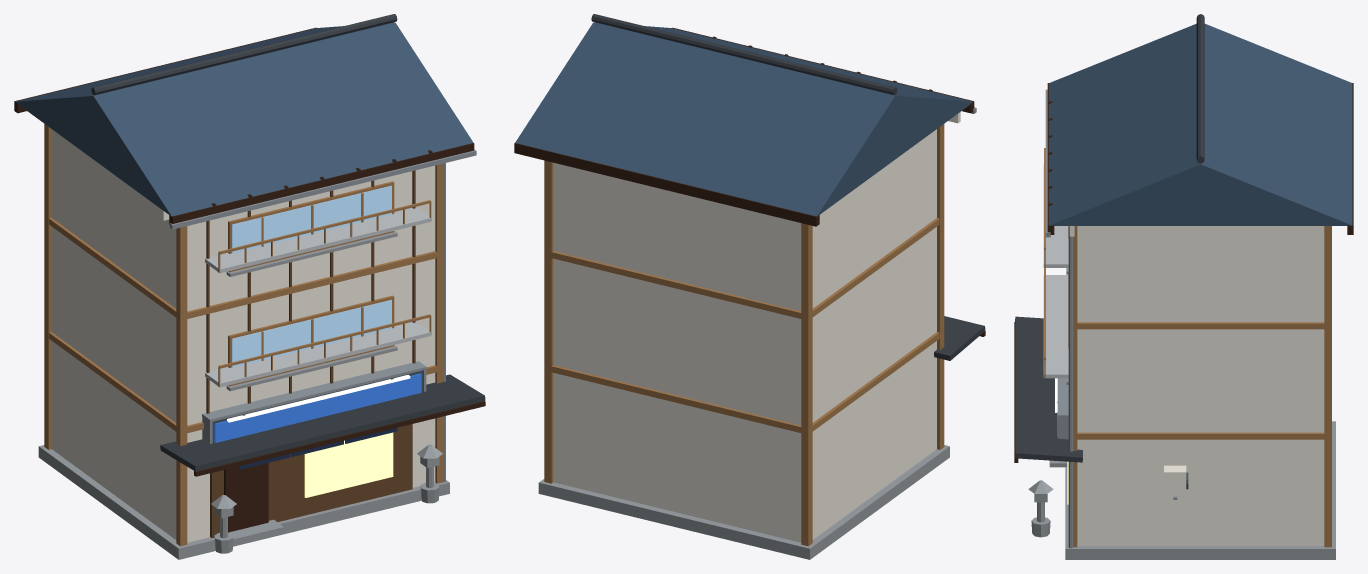
Rendered from shop_sushi_3f.glb.
The picture shows the model from 3 angles, left to right: view 1: azimuth 30°, elevation 25°; view 2: azimuth 150°, elevation 25°; view 3: azimuth 270°, elevation 25°; orthographic projection. The views are drawn at different scales.
Parts seen in each view (by area): view 1: body.023, roof.011, eave.011, panel.002, base.023, win_glass.043, win_glass.041, panel_glass.002, sign_face.023, balcony_slab.034, balcony_slab.035, post.092 (+21 smaller); view 2: body.023, roof.011, base.023, post.093, eave_back.011, beam.069, beam.068, post.095, ridge.011, post.092, eave.011; view 3: body.023, roof.011, eave.011, base.023, post.095, balcony_slab.034, beam.068, beam.069, downpipe.010, post.094, ridge.011, balcony_slab.035 (+3 smaller).
Part boxes in pixels (x1=…): body.023: x1=51, y1=129, x2=435, y2=542; roof.011: x1=15, y1=22, x2=473, y2=216; eave.011: x1=160, y1=374, x2=485, y2=471; panel.002: x1=210, y1=424, x2=412, y2=537; base.023: x1=38, y1=445, x2=449, y2=559; win_glass.043: x1=232, y1=185, x2=391, y2=253; win_glass.041: x1=232, y1=299, x2=391, y2=367; panel_glass.002: x1=304, y1=432, x2=393, y2=497; sign_face.023: x1=214, y1=373, x2=421, y2=442; balcony_slab.034: x1=205, y1=321, x2=430, y2=387; balcony_slab.035: x1=205, y1=207, x2=430, y2=273; post.092: x1=176, y1=226, x2=187, y2=546; body.023: x1=553, y1=129, x2=936, y2=542; roof.011: x1=515, y1=22, x2=973, y2=216; base.023: x1=538, y1=445, x2=949, y2=559; post.093: x1=801, y1=223, x2=812, y2=546; eave_back.011: x1=514, y1=143, x2=819, y2=226; beam.069: x1=551, y1=218, x2=939, y2=318; beam.068: x1=551, y1=332, x2=939, y2=432; post.095: x1=544, y1=160, x2=553, y2=483; ridge.011: x1=591, y1=14, x2=897, y2=94; post.092: x1=937, y1=124, x2=944, y2=449; eave.011: x1=934, y1=316, x2=985, y2=360; body.023: x1=1077, y1=226, x2=1324, y2=545; roof.011: x1=1049, y1=23, x2=1352, y2=225; eave.011: x1=1015, y1=316, x2=1082, y2=462; base.023: x1=1065, y1=421, x2=1335, y2=559; post.095: x1=1324, y1=226, x2=1331, y2=547; balcony_slab.034: x1=1043, y1=275, x2=1068, y2=378; beam.068: x1=1077, y1=432, x2=1324, y2=439; beam.069: x1=1077, y1=322, x2=1324, y2=329; downpipe.010: x1=1068, y1=226, x2=1073, y2=548; post.094: x1=1073, y1=226, x2=1077, y2=547; ridge.011: x1=1196, y1=14, x2=1204, y2=163; balcony_slab.035: x1=1043, y1=165, x2=1068, y2=267.
Size of the model in its own units: 8.5 by 11.35 by 8.5.
